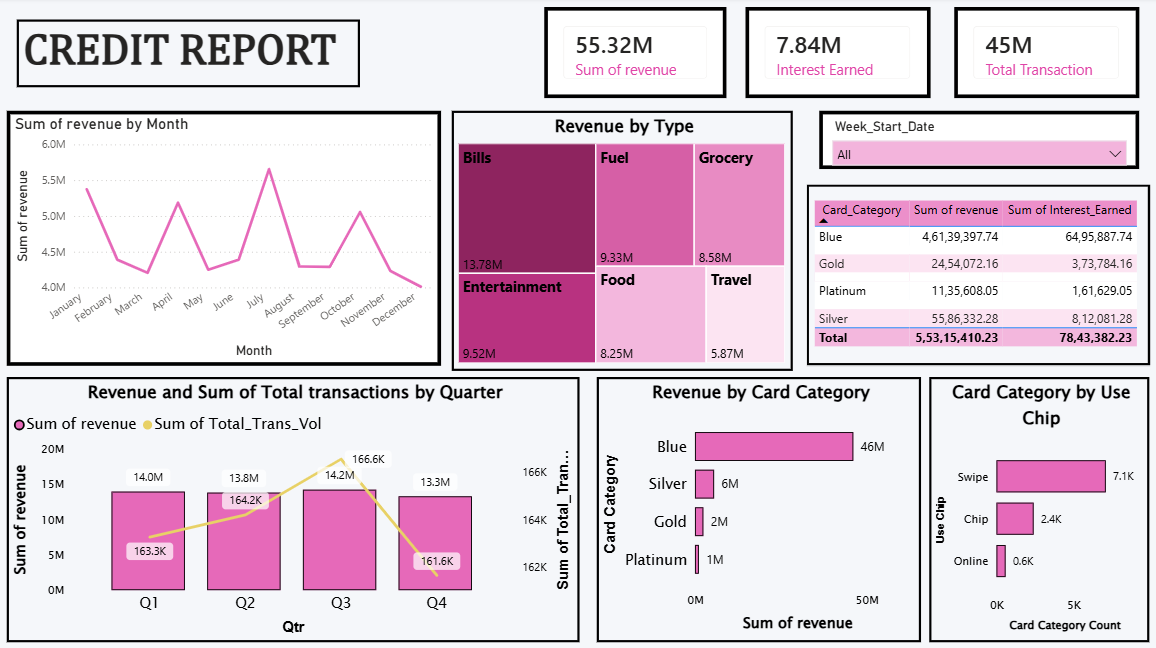

Layout of this report page (visuals, bound fields, positions):
{"tool":"powerbi","page":{"name":"Credit Report","canvas":[1280,720],"ordinal":0},"visuals":[{"type":"textbox","box":[20,24.3,377.1,74.3],"z":0},{"type":"lineStackedColumnComboChart","title":"Revenue and Sum of Total transactions  by Quarter","fields":{"Category":["credit_card_project credit_card.Qtr"],"Y2":["Sum(credit_card_project credit_card.Total_Trans_Vol)"],"Y":["Sum(credit_card_project credit_card.revenue)"]},"box":[10,417.1,628.6,291.4],"z":1000},{"type":"barChart","title":"Revenue by Card Category","fields":{"Category":["credit_card_project credit_card.Card_Category"],"Y":["Sum(credit_card_project credit_card.revenue)"]},"box":[657.1,417.1,355.7,291.4],"z":2000},{"type":"lineChart","fields":{"Category":["credit_card_project credit_card.Week_Start_Date.Variation.Date Hierarchy.Month"],"Y":["Sum(credit_card_project credit_card.revenue)"]},"box":[10,124.3,477.1,280],"z":3000},{"type":"treemap","title":"Revenue by Type","fields":{"Group":["credit_card_project credit_card.Exp_Type"],"Values":["Sum(credit_card_project credit_card.revenue)"]},"box":[498.6,124.3,374.3,285.7],"z":4000},{"type":"barChart","title":"Card Category by Use Chip","fields":{"Category":["credit_card_project credit_card.Use_Chip"],"Y":["CountNonNull(credit_card_project credit_card.Card_Category)"]},"box":[1022.9,417.1,241.4,291.4],"z":5000},{"type":"tableEx","fields":{"Values":["credit_card_project credit_card.Card_Category","Sum(credit_card_project credit_card.revenue)","Sum(credit_card_project credit_card.Interest_Earned)"]},"box":[887.1,205.7,377.1,198.6],"z":6000},{"type":"cardVisual","fields":{"Data":["Sum(credit_card_project credit_card.Interest_Earned)"]},"box":[820,11.4,202.9,100],"z":7000},{"type":"cardVisual","fields":{"Data":["Sum(credit_card_project credit_card.revenue)"]},"box":[600,11.4,200,100],"z":8000},{"type":"cardVisual","fields":{"Data":["Sum(credit_card_project credit_card.Total_Trans_Amt)"]},"box":[1050,11.4,202.9,100],"z":9000},{"type":"slicer","fields":{"Values":["credit_card_project credit_card.Week_Start_Date"]},"box":[901.4,124.3,351.4,64.3],"z":10000}]}

Visuals, with their boxes in screenshot pixels (x1, y1, x2, y2), scaled from the page's 1280x720 canvas onto the 1156x648 screenshot:
textbox: locate(18, 22, 359, 89)
"Revenue and Sum of Total transactions  by Quarter" lineStackedColumnComboChart: locate(9, 375, 577, 638)
"Revenue by Card Category" barChart: locate(593, 375, 915, 638)
lineChart - credit_card_project credit_card.Week_Start_Date.Variation.Date Hierarchy.Month x Sum(credit_card_project credit_card.revenue): locate(9, 112, 440, 364)
"Revenue by Type" treemap: locate(450, 112, 788, 369)
"Card Category by Use Chip" barChart: locate(924, 375, 1142, 638)
tableEx - credit_card_project credit_card.Card_Category x Sum(credit_card_project credit_card.revenue): locate(801, 185, 1142, 364)
cardVisual - Sum(credit_card_project credit_card.Interest_Earned): locate(741, 10, 924, 100)
cardVisual - Sum(credit_card_project credit_card.revenue): locate(542, 10, 722, 100)
cardVisual - Sum(credit_card_project credit_card.Total_Trans_Amt): locate(948, 10, 1132, 100)
slicer - credit_card_project credit_card.Week_Start_Date: locate(814, 112, 1131, 170)
